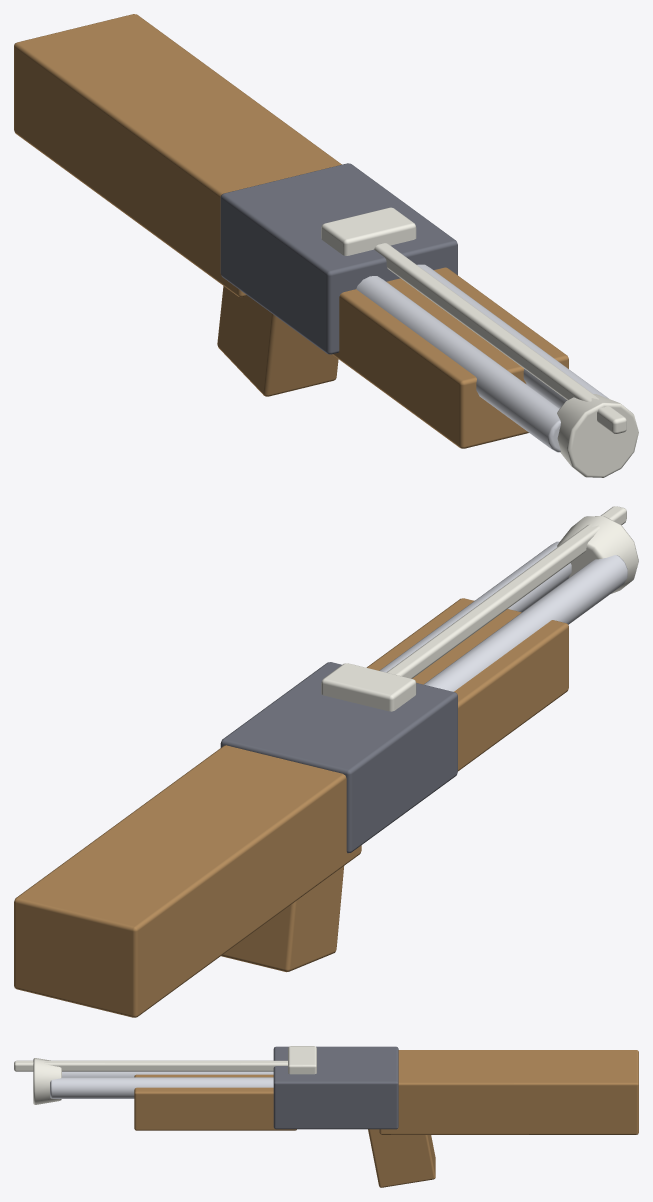
The model's file is weapon_shotgun.glb.
The picture shows the model from 3 angles, top to bottom: view 1: azimuth 30°, elevation 25°; view 2: azimuth 150°, elevation 25°; view 3: azimuth 270°, elevation 25°; orthographic projection. The views are drawn at different scales.
Visible parts, largest first — view 1: Stock.001, Receiver.001, Foregrip.001, Grip.001, BarrelL, Rib, MuzzleCollar, BreakLatch, BarrelR; view 2: Stock.001, Receiver.001, Foregrip.001, BarrelL, Grip.001, Rib, BreakLatch, MuzzleCollar, BarrelR; view 3: Stock.001, Receiver.001, Foregrip.001, BarrelR, Grip.001, Rib, BarrelL, MuzzleCollar, BreakLatch.
Part boxes in pixels (x1=…): Stock.001: x1=14, y1=14, x2=341, y2=297; Receiver.001: x1=220, y1=163, x2=457, y2=354; Foregrip.001: x1=332, y1=267, x2=568, y2=448; Grip.001: x1=217, y1=286, x2=338, y2=396; BarrelL: x1=356, y1=276, x2=560, y2=452; Rib: x1=374, y1=243, x2=626, y2=433; MuzzleCollar: x1=557, y1=394, x2=638, y2=477; BreakLatch: x1=321, y1=207, x2=416, y2=255; BarrelR: x1=417, y1=264, x2=608, y2=408; Stock.001: x1=14, y1=745, x2=361, y2=1017; Receiver.001: x1=220, y1=662, x2=457, y2=853; Foregrip.001: x1=367, y1=598, x2=568, y2=771; BarrelL: x1=424, y1=555, x2=627, y2=691; Grip.001: x1=221, y1=866, x2=343, y2=972; Rib: x1=386, y1=506, x2=626, y2=678; BreakLatch: x1=321, y1=663, x2=416, y2=711; MuzzleCollar: x1=557, y1=516, x2=638, y2=593; BarrelR: x1=379, y1=541, x2=571, y2=672; Stock.001: x1=379, y1=1050, x2=638, y2=1134; Receiver.001: x1=273, y1=1046, x2=398, y2=1129; Foregrip.001: x1=134, y1=1074, x2=296, y2=1130; BarrelR: x1=50, y1=1077, x2=273, y2=1098; Grip.001: x1=368, y1=1129, x2=435, y2=1187; Rib: x1=14, y1=1060, x2=287, y2=1071; BarrelL: x1=62, y1=1071, x2=273, y2=1077; MuzzleCollar: x1=33, y1=1058, x2=61, y2=1104; BreakLatch: x1=288, y1=1046, x2=316, y2=1074.
Bounding box in the file's own units: 0.36 × 0.5658 × 2.6.
